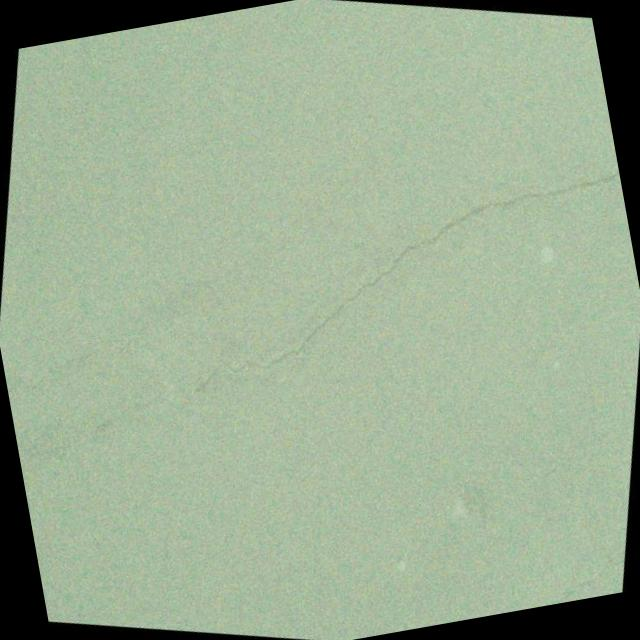crack: (110, 55, 640, 522), (0, 255, 203, 446), (7, 362, 178, 510), (478, 518, 632, 615)
